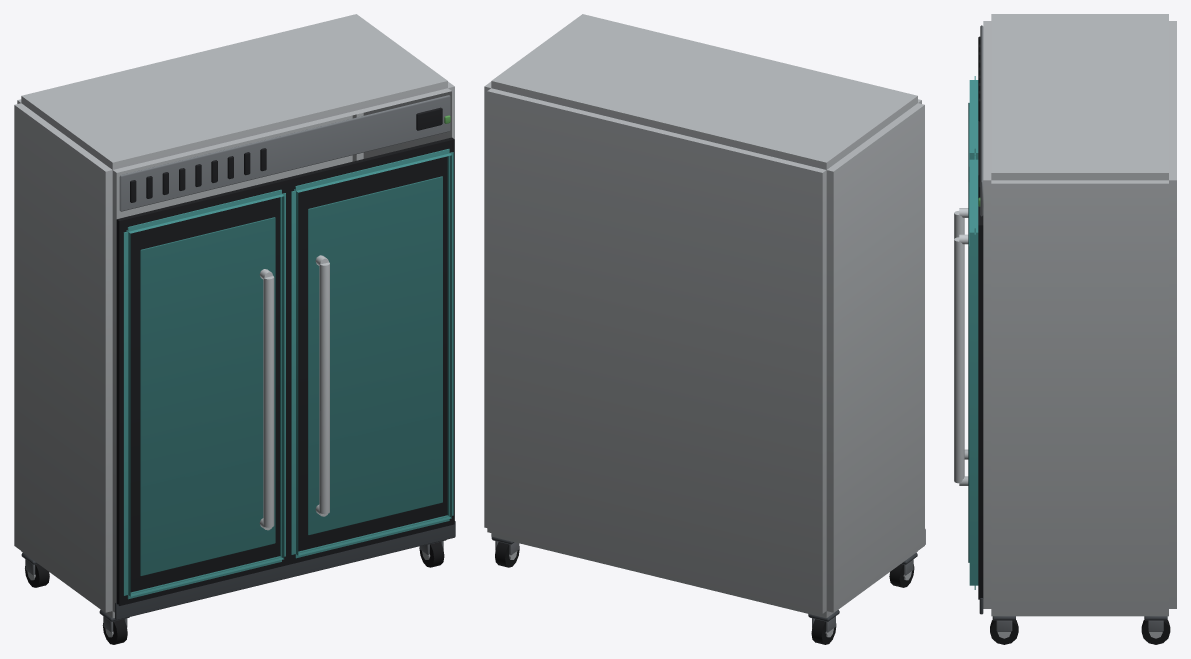
File: SM_ReachIn_2Door_15.glb
3 renders of one model, left to right at view 1: azimuth 30°, elevation 25°; view 2: azimuth 150°, elevation 25°; view 3: azimuth 270°, elevation 25°, orthographic. The views are drawn at different scales.
Parts seen in each view (by area): view 1: SM_ReachIn_2Door_15; view 2: SM_ReachIn_2Door_15; view 3: SM_ReachIn_2Door_15.
Part boxes in pixels (bbox=[...]): SM_ReachIn_2Door_15: bbox=[14, 14, 455, 644]; SM_ReachIn_2Door_15: bbox=[484, 14, 925, 644]; SM_ReachIn_2Door_15: bbox=[954, 14, 1176, 644].
Size of the model in its own units: 1.5 by 2 by 0.852.
1 material, 1 textured.
